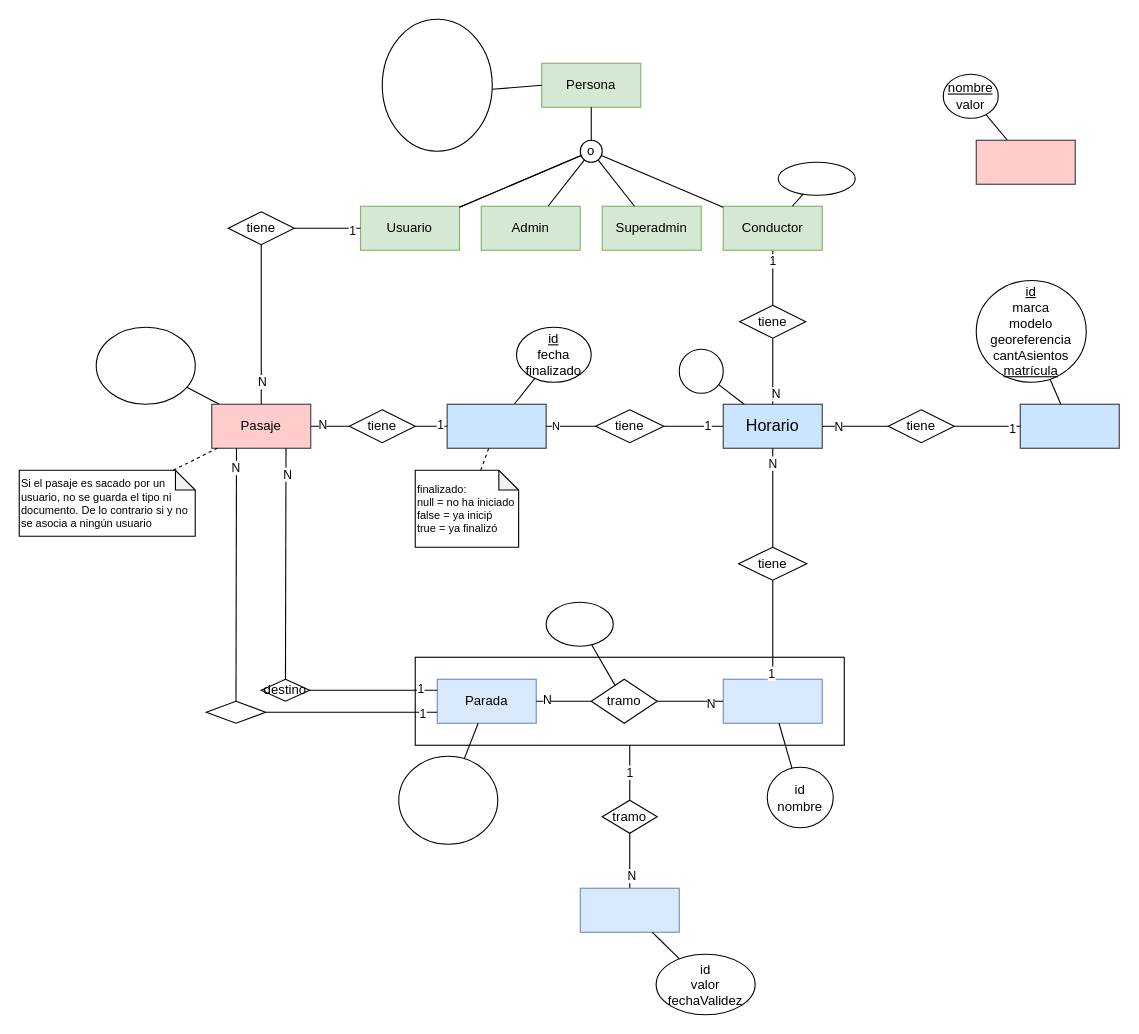
Some shapes in this 1139 by 1034 pixel diagram are drawn without their labels. Here are the shapes that lost their labels. From the top down, the box of each, then its label:
(381, 18, 492, 151): id nombre apellido correo contrasenia tipoDocumento documento
(777, 161, 855, 195): vencLibreta
(975, 139, 1075, 184): Parametro
(95, 326, 195, 404): id asiento usado tipoDocumento documento
(678, 348, 723, 393): id hora
(446, 403, 546, 448): Viaje
(1019, 403, 1119, 448): Vehiculo
(545, 601, 613, 646): numero tiempo
(205, 700, 266, 723): origen
(722, 678, 822, 723): Linea
(398, 755, 498, 844): id nombre georeferencia
(579, 887, 679, 932): Precio
